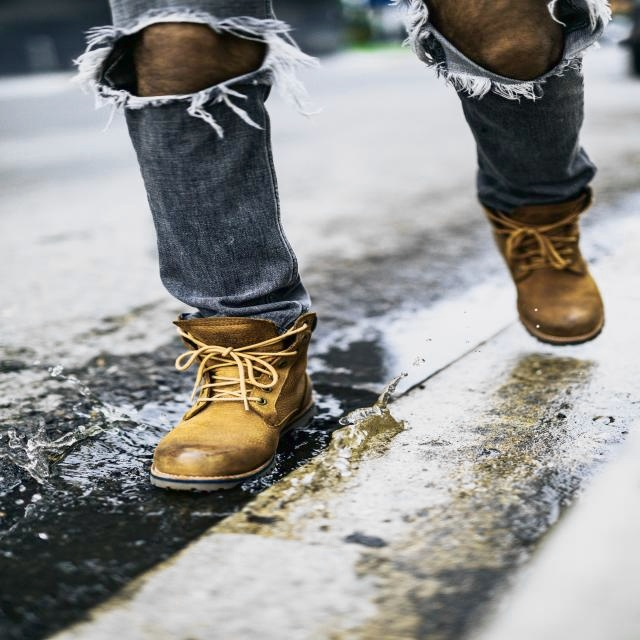ripped_pants: (68, 0, 615, 323)
